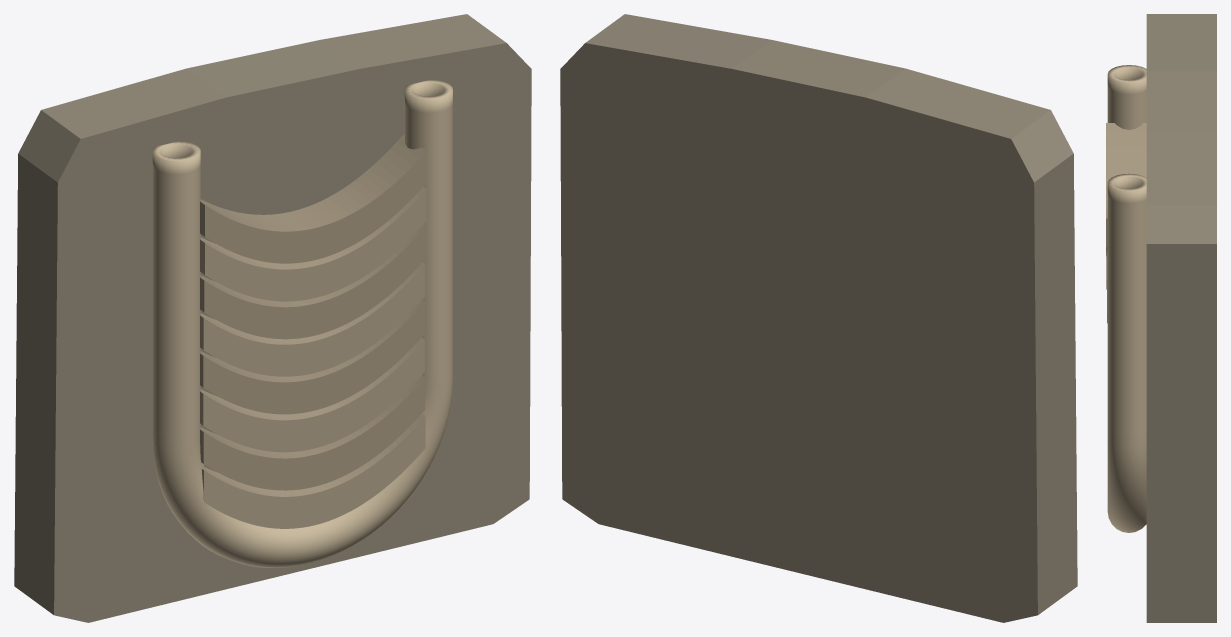
Rendered from diplocraterion-spreite-burrow.glb.
The picture shows the model from 3 angles, left to right: view 1: azimuth 30°, elevation 25°; view 2: azimuth 150°, elevation 25°; view 3: azimuth 270°, elevation 25°; orthographic projection. The views are drawn at different scales.
Parts seen in each view (by area): view 1: Original cut sediment host, Hollow U wall and open paired mouths, Continuous intervening spreite lamina 07, Continuous intervening spreite lamina 06, Continuous intervening spreite lamina 01, Continuous intervening spreite lamina 00, Continuous intervening spreite lamina 02, Continuous intervening spreite lamina 05, Continuous intervening spreite lamina 03, Continuous intervening spreite lamina 04; view 2: Original cut sediment host; view 3: Original cut sediment host, Hollow U wall and open paired mouths, Continuous intervening spreite lamina 07.
Part boxes in pixels (x1,y1,x2,y2): Original cut sediment host: (14, 14, 531, 622); Hollow U wall and open paired mouths: (152, 79, 452, 567); Continuous intervening spreite lamina 07: (200, 134, 426, 263); Continuous intervening spreite lamina 06: (200, 186, 426, 301); Continuous intervening spreite lamina 01: (200, 375, 424, 490); Continuous intervening spreite lamina 00: (201, 414, 425, 528); Continuous intervening spreite lamina 02: (200, 337, 424, 452); Continuous intervening spreite lamina 05: (200, 224, 425, 339); Continuous intervening spreite lamina 03: (200, 300, 424, 414); Continuous intervening spreite lamina 04: (200, 262, 425, 376); Original cut sediment host: (560, 14, 1077, 622); Original cut sediment host: (1146, 14, 1216, 622); Hollow U wall and open paired mouths: (1107, 65, 1146, 532); Continuous intervening spreite lamina 07: (1106, 123, 1146, 255).
Size of the model in its own units: 0.25 by 0.246 by 0.0568.
